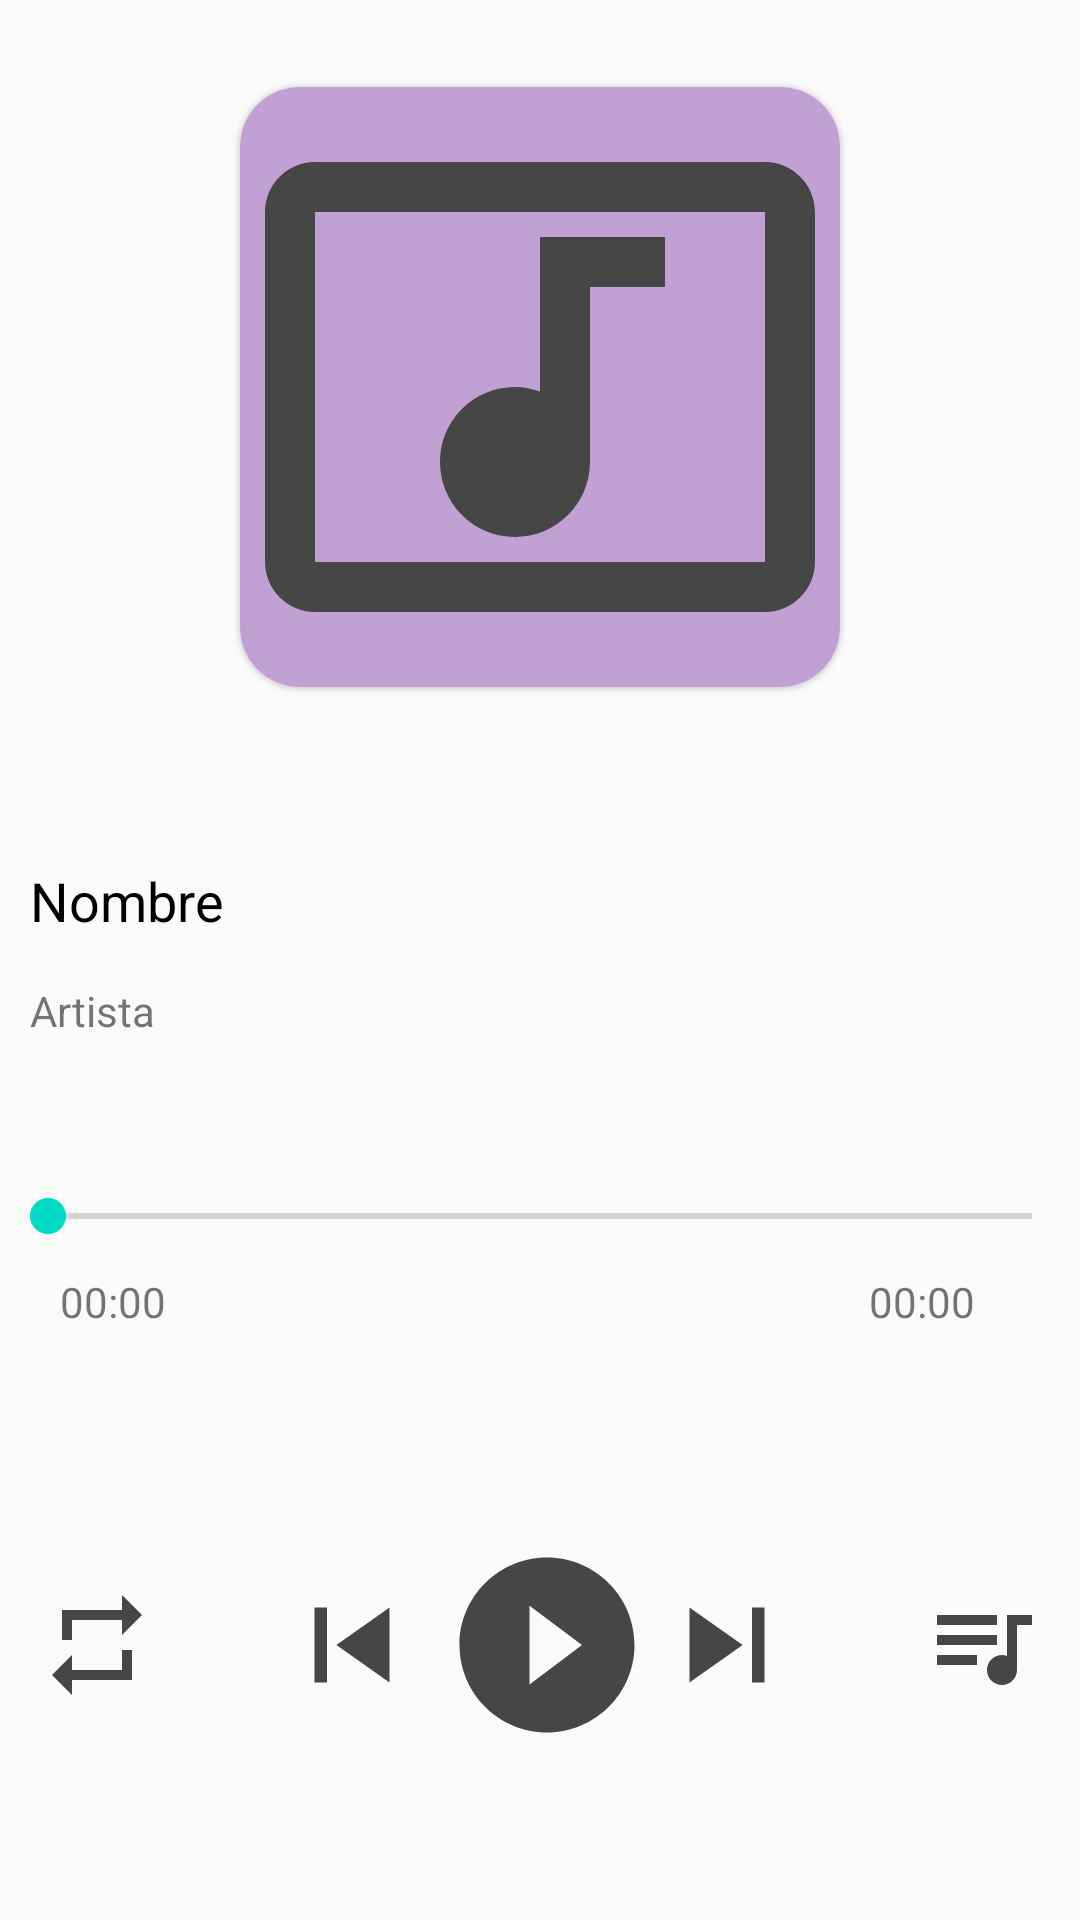

Icons on this 1080w x 1920h Android screen, each with the point to tap as [x,y]:
play circle: [547,1645]
queue music: [984,1650]
repeat: [97,1645]
skip next: [727,1645]
skip previous: [352,1645]
